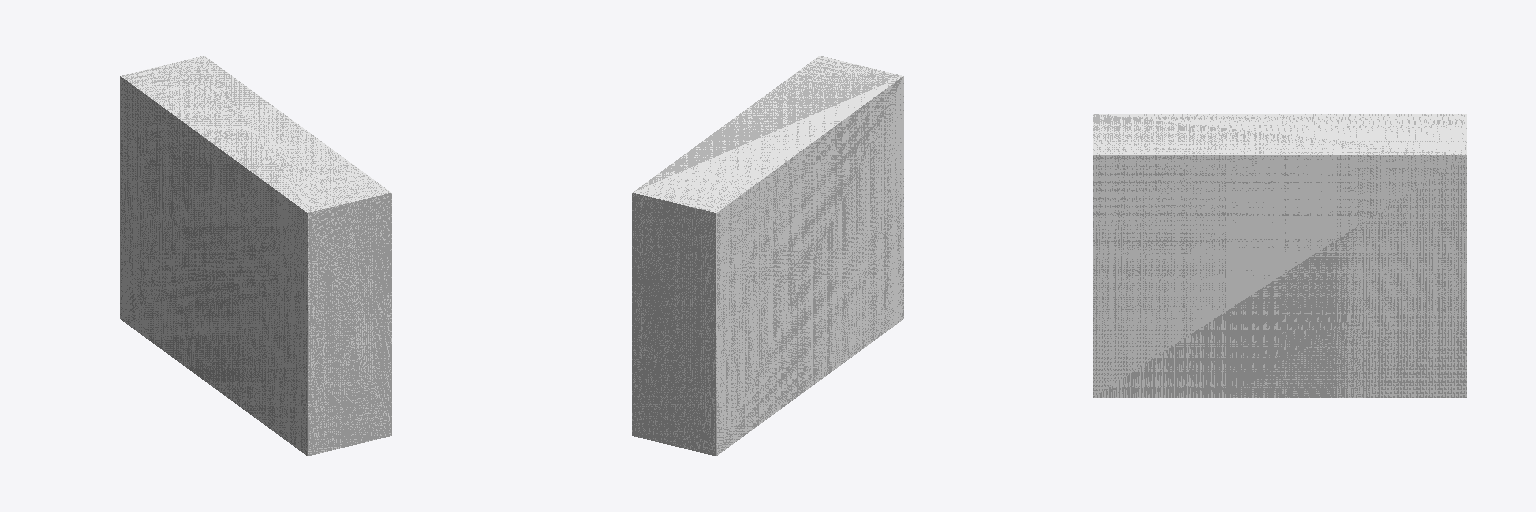
The model's file is basmati_rice1d51d01d0.obj.
3 views of the same model, side by side, from view 1: azimuth 30°, elevation 25°; view 2: azimuth 150°, elevation 25°; view 3: azimuth 270°, elevation 25° (orthographic).
Parts seen in each view (by area): view 1: basmati_rice1d51d01d0; view 2: basmati_rice1d51d01d0; view 3: basmati_rice1d51d01d0.
Boxes of the visible parts, <box> form: basmati_rice1d51d01d0: <box>120,56,391,455</box>; basmati_rice1d51d01d0: <box>632,56,903,455</box>; basmati_rice1d51d01d0: <box>1093,114,1466,397</box>.
Size of the model in its own units: 0.0439 by 0.1215 by 0.1696.